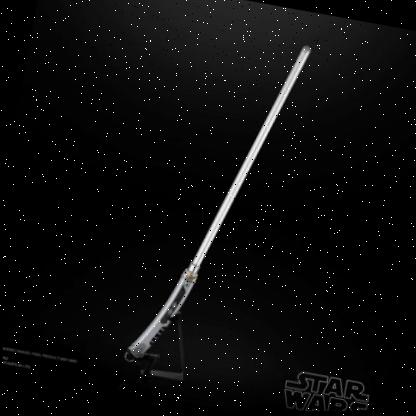lightsaber: (116, 15, 316, 395)
